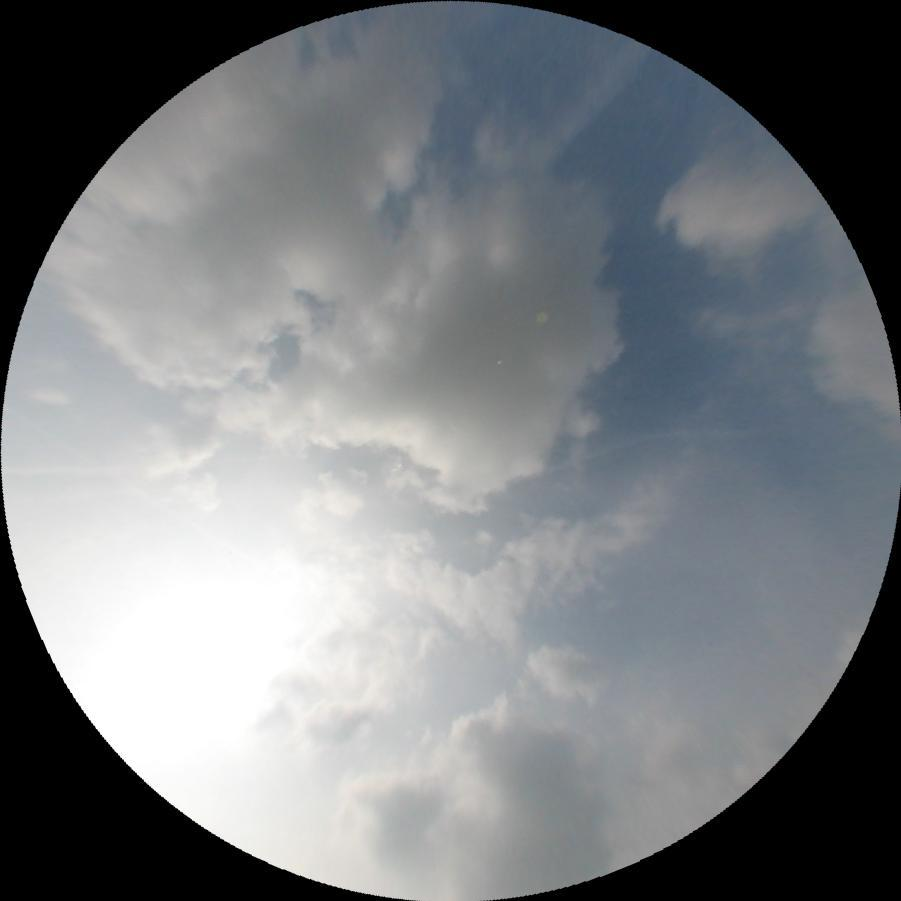contrail veryold: (508, 34, 655, 188), (556, 414, 753, 468)
sun: (33, 538, 361, 812)
unknow: (3, 464, 132, 475)
